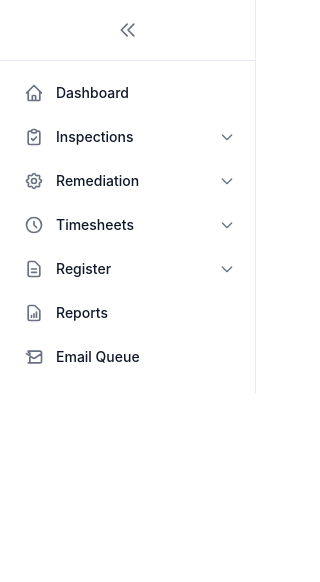
it: Register Nav Sidebar › shows Work Types (Timesheet) instead of Work Types
Click the button named "Expand Register submenu": (227, 269) [211,253,243,285]
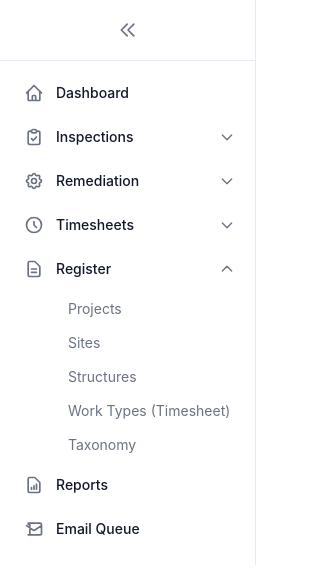
expect the link "Work Types (Timesheet)" is shown: met, box [68,402,230,419]
